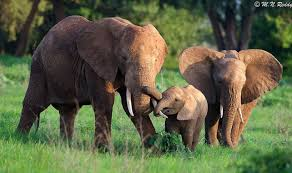Elephant: (14, 17, 171, 152)
